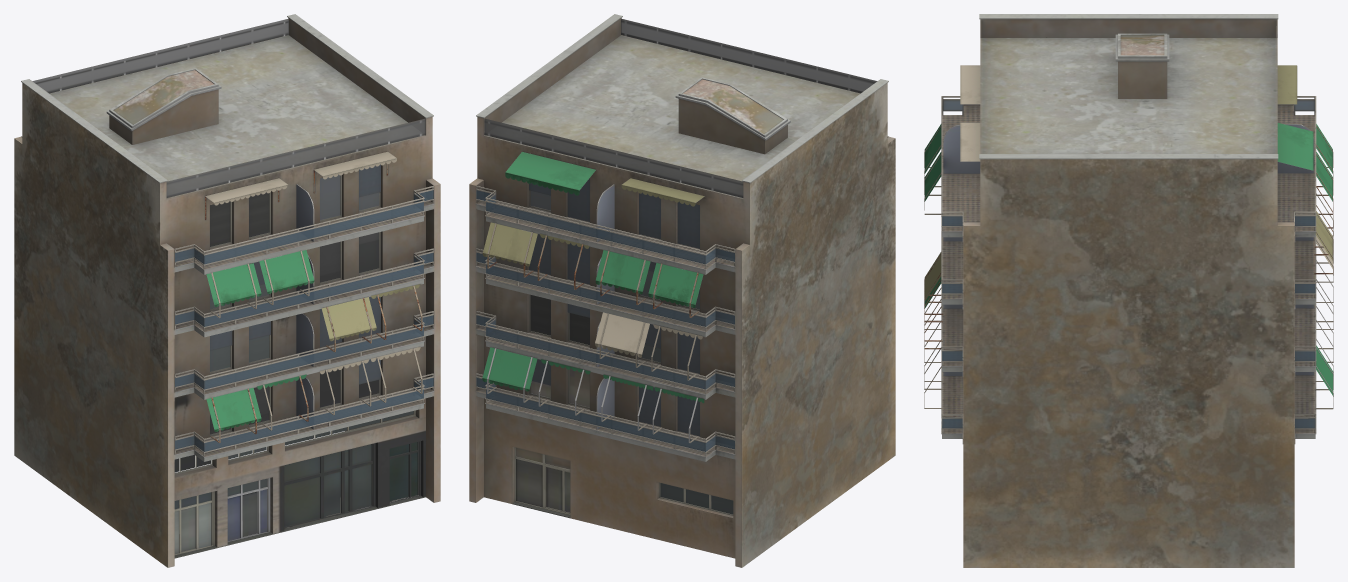
Rendered from med_polykatoikia.gltf.
The picture shows the model from 3 angles, left to right: view 1: azimuth 30°, elevation 25°; view 2: azimuth 150°, elevation 25°; view 3: azimuth 270°, elevation 25°; orthographic projection. The views are drawn at different scales.
Parts seen in each view (by area): view 1: defaultMaterial.002; view 2: defaultMaterial.002; view 3: defaultMaterial.002.
Part boxes in pixels (bbox=[...]): defaultMaterial.002: bbox=[14, 14, 440, 567]; defaultMaterial.002: bbox=[469, 14, 895, 567]; defaultMaterial.002: bbox=[924, 14, 1333, 567].
Size of the model in its own units: 12.67 by 17.7 by 15.19.
2 materials, 2 textured.
